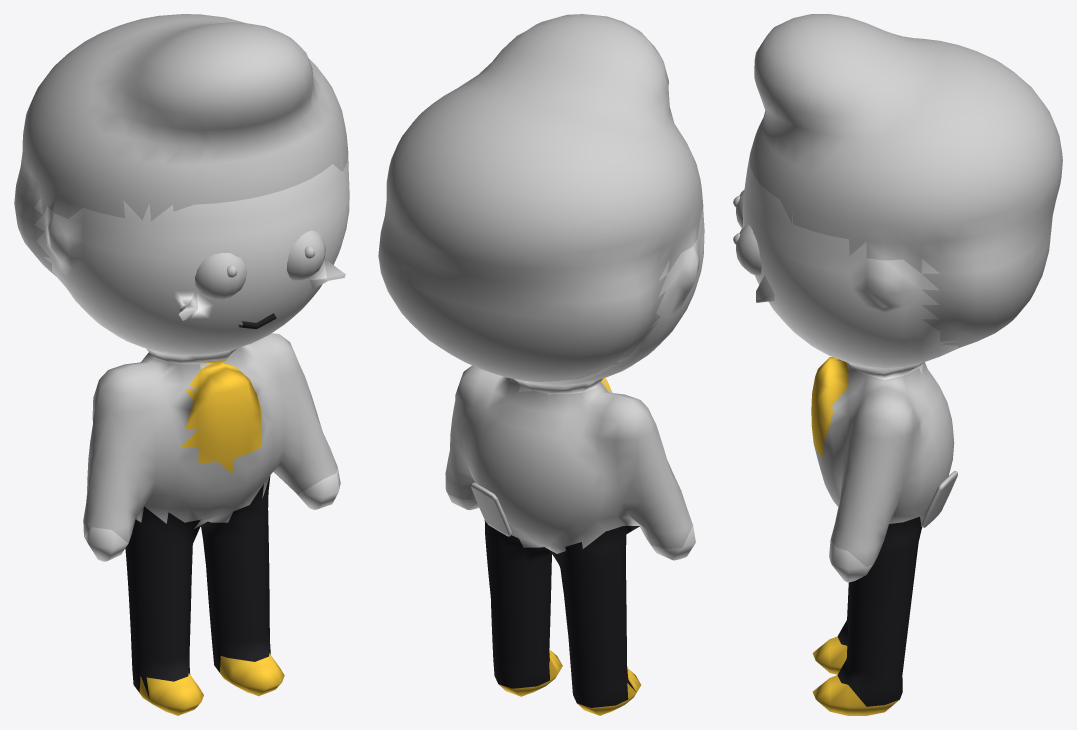
File: idol_boy_b.fbx
The picture shows the model from 3 angles, left to right: view 1: azimuth 30°, elevation 25°; view 2: azimuth 150°, elevation 25°; view 3: azimuth 270°, elevation 25°; orthographic projection. The views are drawn at different scales.
Parts seen in each view (by area): view 1: idol_boy_b; view 2: idol_boy_b; view 3: idol_boy_b.
Boxes of the visible parts, left/top/right/bottom form: idol_boy_b: left=14, top=14, right=349, bottom=715; idol_boy_b: left=378, top=14, right=704, bottom=715; idol_boy_b: left=733, top=14, right=1062, bottom=715.
Bounding box in the file's own units: 0.58 × 1.29 × 0.5765.
